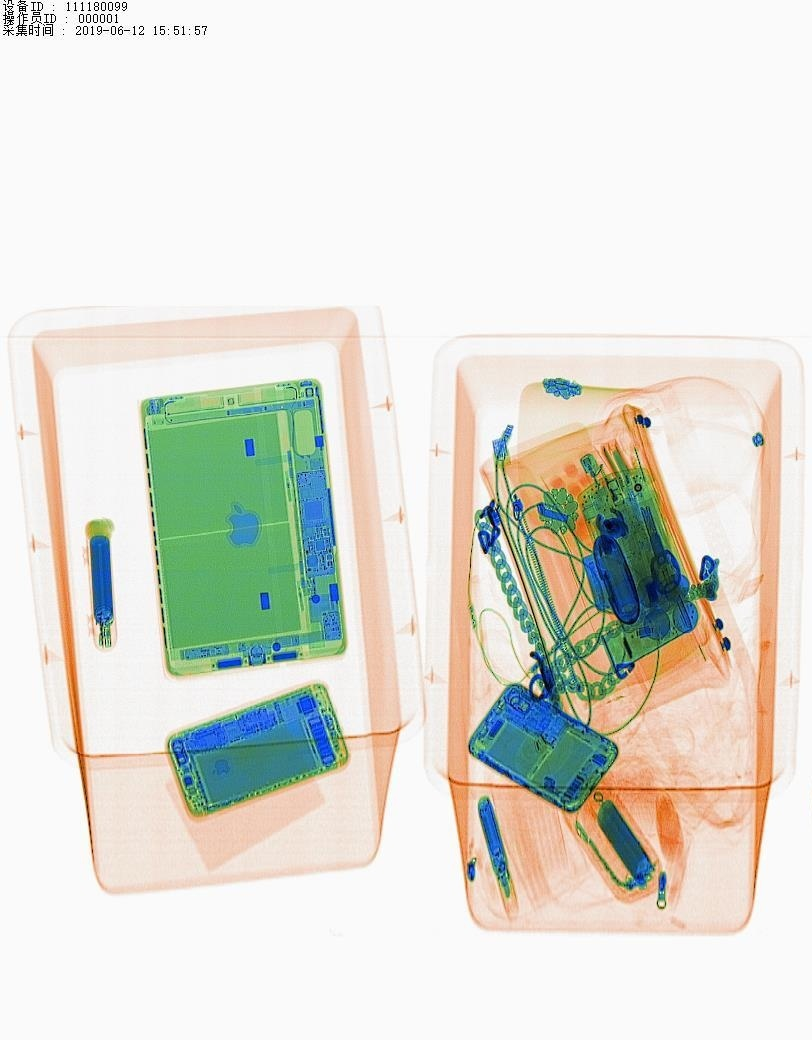NonmetallicFire: (569, 425, 645, 545)
